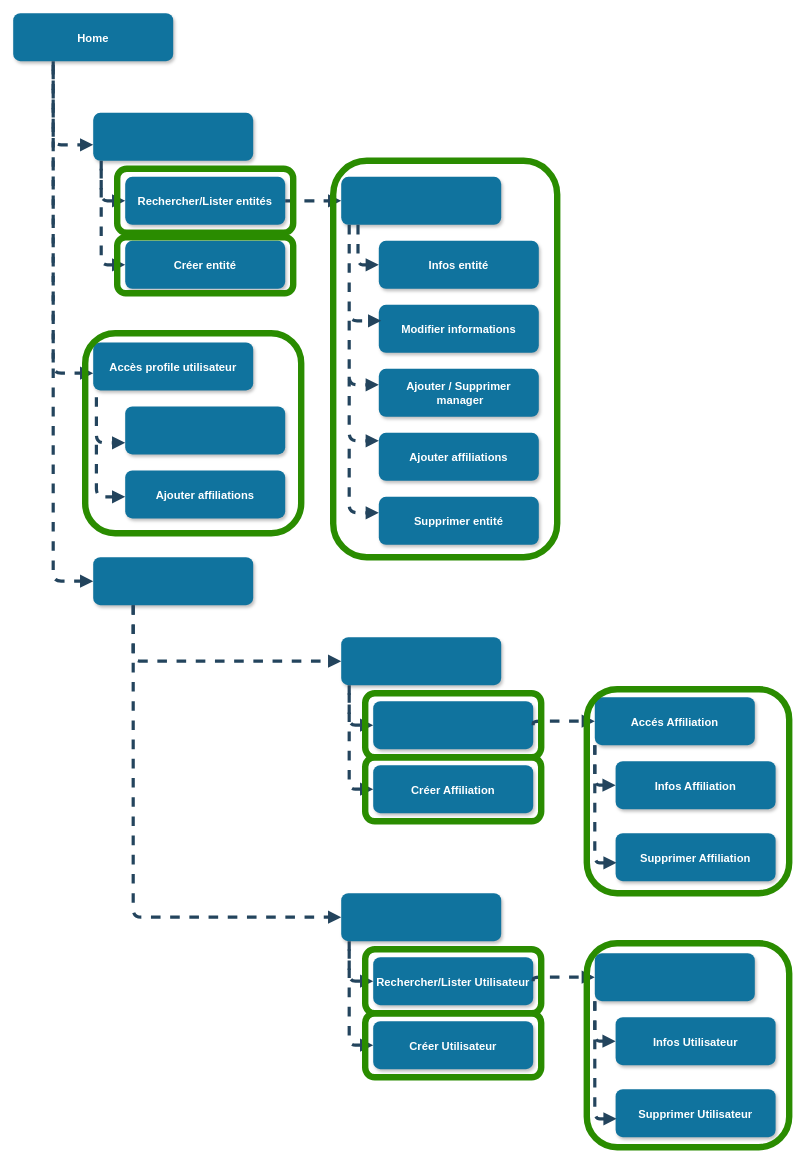
The diagram is 802 pixels wide and 1160 high, and some of its shapes have lost their labels. The centre of each missing label's shape, as x and y in pixels:
"Accès entité" goes at [422,201].
"Accés Utilisateur" goes at [675,978].
"Admin" goes at [174,582].
"Affiliations" goes at [422,662].
"Entités" goes at [174,137].
"Modifier infos" goes at [206,431].
"Rechercher/Lister Affiliations" goes at [454,726].
"Utilisateur" goes at [422,918].
